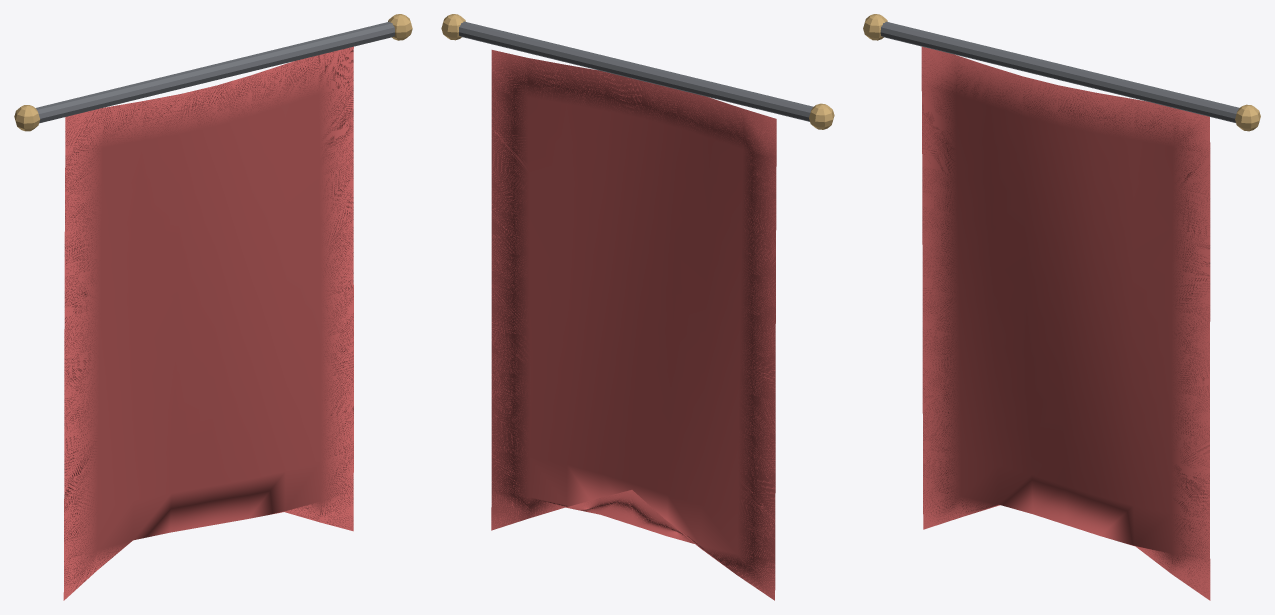
Rendered from Garage_Banner.glb.
3 renders of one model, left to right at view 1: azimuth 30°, elevation 25°; view 2: azimuth 150°, elevation 25°; view 3: azimuth 330°, elevation 25°, orthographic.
Parts seen in each view (by area): view 1: Garage_Banner; view 2: Garage_Banner; view 3: Garage_Banner.
Boxes of the visible parts, x1=… form: Garage_Banner: x1=14, y1=14, x2=412, y2=600; Garage_Banner: x1=441, y1=14, x2=834, y2=600; Garage_Banner: x1=863, y1=14, x2=1260, y2=600.
Size of the model in its own units: 0.85 by 1.04 by 0.06.
